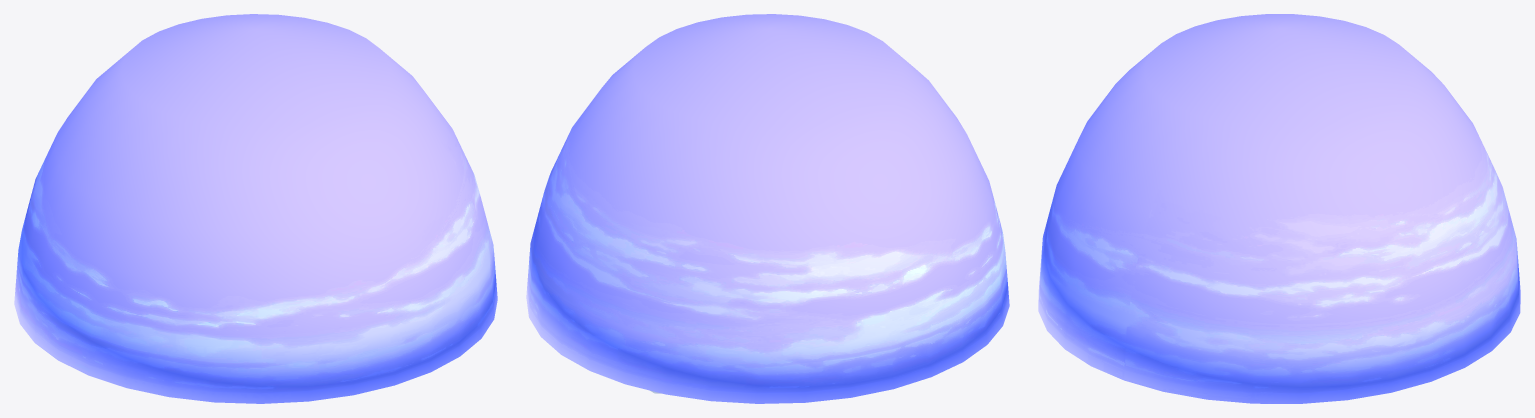
Rendered from field_of_flowers.glb.
3 renders of one model, left to right at view 1: azimuth 30°, elevation 25°; view 2: azimuth 150°, elevation 25°; view 3: azimuth 270°, elevation 25°, orthographic.
Visible parts, largest first — view 1: Sky; view 2: Sky; view 3: Sky.
Part boxes in pixels (bbox=[...]): Sky: bbox=[14, 14, 497, 403]; Sky: bbox=[526, 14, 1009, 403]; Sky: bbox=[1038, 14, 1520, 403].
Size of the model in its own units: 308 by 246 by 308.
9 materials, 9 textured.
